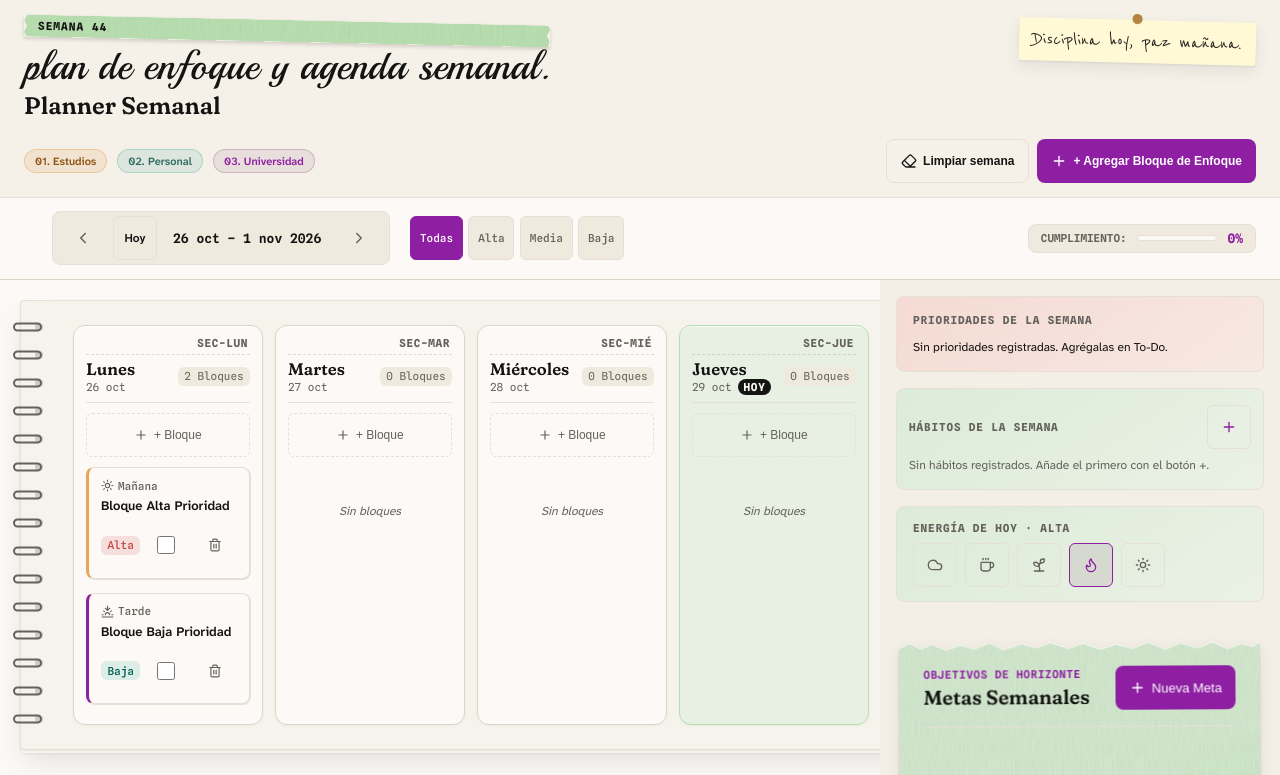
Test: PlannerView integración semanal y metas › permite filtrar bloques por prioridad en el sub-header
Check: the text "Bloque Alta Prioridad" is shown, box [101,498,237,515]
Check: the text "Bloque Baja Prioridad" is shown, box [101,624,237,641]
Click the button with aria-label "prioridad alta" at point(491, 238), box [468,216,514,260]
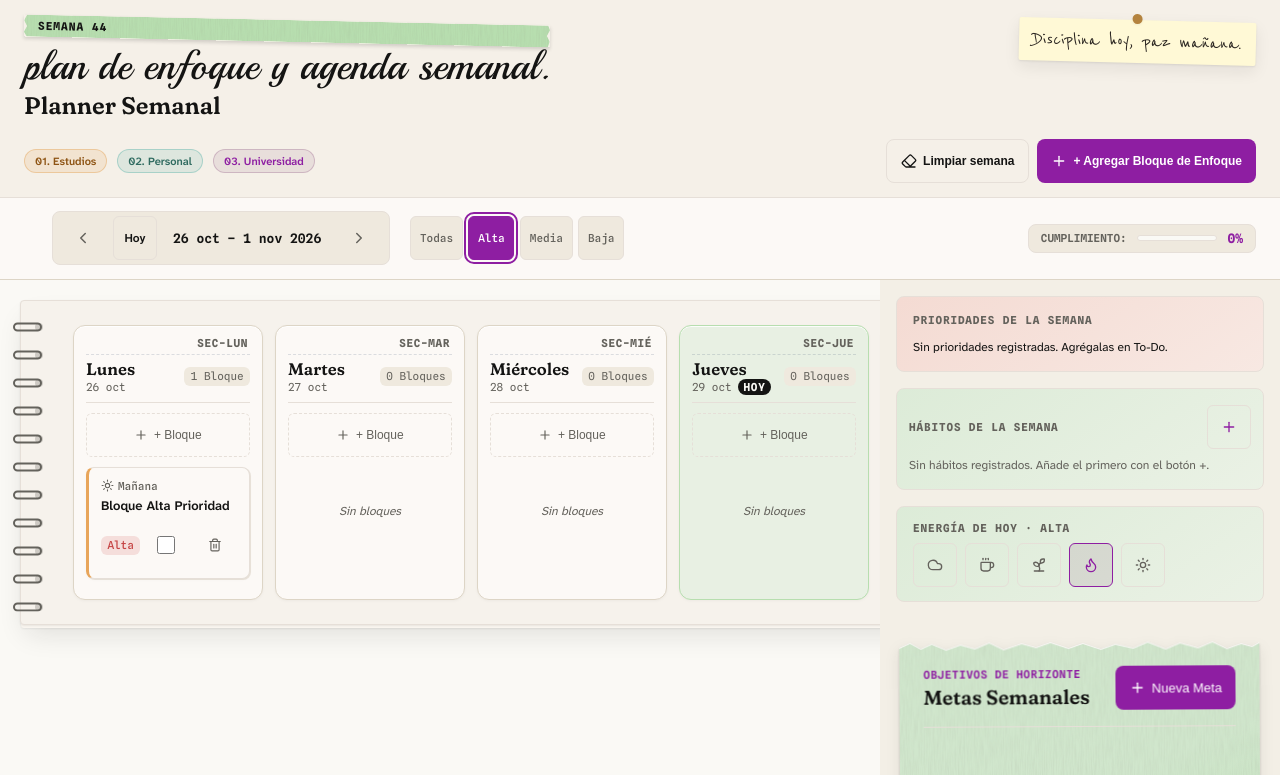
Check: the text "Bloque Alta Prioridad" is shown, box [101,498,237,515]
Check: the text "Bloque Baja Prioridad" is gone
Click the button with aria-label "todas las prioridades" at point(436, 238), box [410,216,463,260]
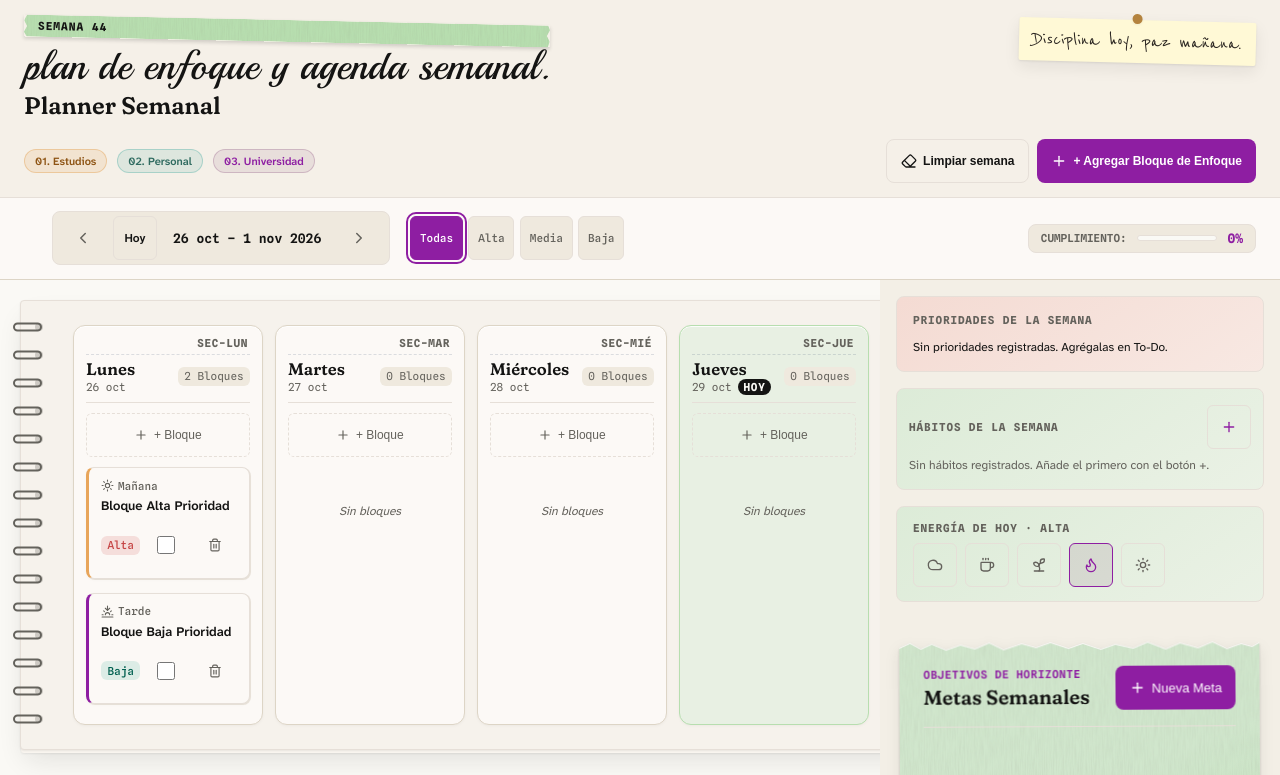
Check: the text "Bloque Alta Prioridad" is shown, box [101,498,237,515]
Check: the text "Bloque Baja Prioridad" is shown, box [101,624,237,641]
